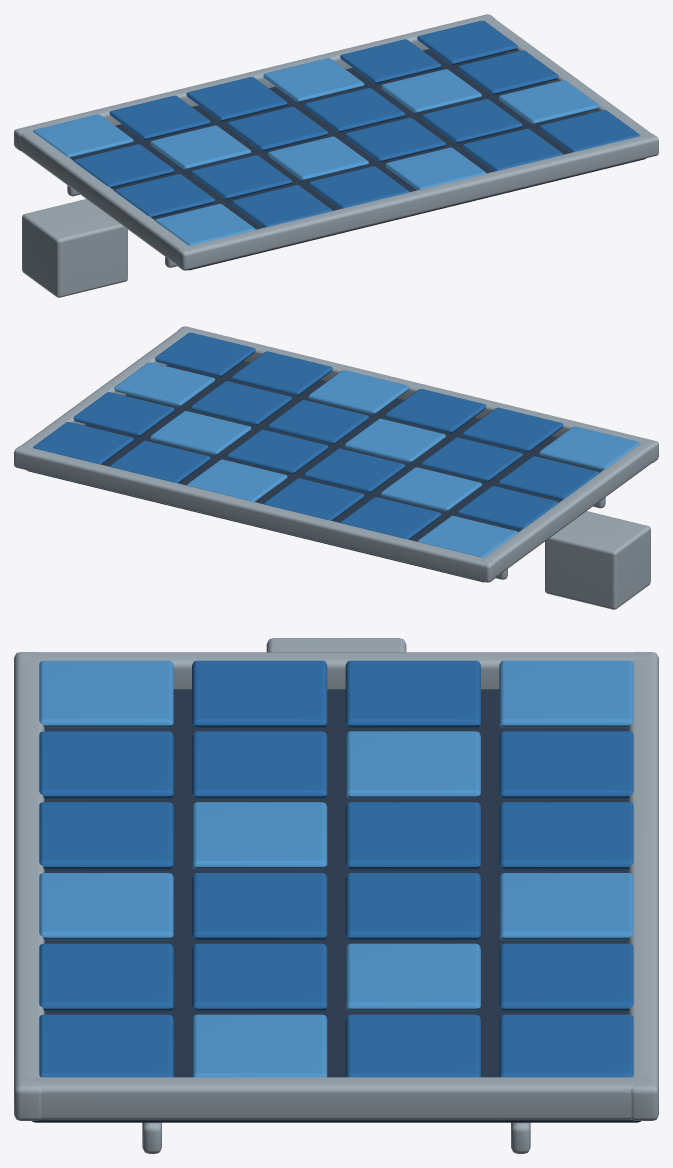
Rendered from solar_fixed.glb.
The picture shows the model from 3 angles, top to bottom: view 1: azimuth 30°, elevation 25°; view 2: azimuth 150°, elevation 25°; view 3: azimuth 270°, elevation 25°; orthographic projection. The views are drawn at different scales.
Visible parts, largest first — view 1: Fixed_Solar_Frame_Rail, Fixed_Solar_Backing, Fixed_Mount, Fixed_Solar_End_Frame, Fixed_Solar_Frame_Rail_001, Fixed_Solar_Cell_1_2, Fixed_Solar_Cell_2_3, Fixed_Solar_Cell_3_3, Fixed_Solar_Cell_1_1, Fixed_Solar_Cell_4_1, Fixed_Solar_Cell_4_3, Fixed_Solar_Cell_2_2 (+18 smaller); view 2: Fixed_Solar_Frame_Rail_001, Fixed_Solar_Backing, Fixed_Mount, Fixed_Solar_End_Frame, Fixed_Solar_Frame_Rail, Fixed_Solar_Cell_1_1, Fixed_Solar_Cell_2_0, Fixed_Solar_Cell_3_0, Fixed_Solar_Cell_1_2, Fixed_Solar_Cell_4_0, Fixed_Solar_Cell_4_2, Fixed_Solar_Cell_2_1 (+18 smaller); view 3: Fixed_Solar_Backing, Fixed_Solar_End_Frame_001, Fixed_Solar_Frame_Rail_001, Fixed_Solar_Frame_Rail, Fixed_Solar_Cell_4_1, Fixed_Solar_Cell_4_2, Fixed_Solar_Cell_4_0, Fixed_Solar_Cell_4_3, Fixed_Solar_Cell_0_1, Fixed_Solar_Cell_0_2, Fixed_Solar_Cell_3_1, Fixed_Solar_Cell_3_2 (+18 smaller).
Part boxes in pixels (x1,y1,x2,y2): Fixed_Solar_Frame_Rail: (177, 133, 658, 270); Fixed_Solar_Backing: (71, 49, 645, 270); Fixed_Mount: (22, 199, 127, 297); Fixed_Solar_End_Frame: (19, 128, 192, 264); Fixed_Solar_Frame_Rail_001: (14, 14, 494, 150); Fixed_Solar_Cell_1_2: (150, 125, 251, 169); Fixed_Solar_Cell_2_3: (186, 77, 287, 121); Fixed_Solar_Cell_3_3: (263, 58, 364, 102); Fixed_Solar_Cell_1_1: (191, 155, 291, 199); Fixed_Solar_Cell_4_1: (421, 99, 522, 143); Fixed_Solar_Cell_4_3: (340, 39, 441, 83); Fixed_Solar_Cell_2_2: (227, 106, 328, 150); Fixed_Solar_Frame_Rail_001: (14, 445, 495, 582); Fixed_Solar_Backing: (27, 361, 601, 582); Fixed_Mount: (545, 511, 650, 609); Fixed_Solar_End_Frame: (480, 439, 653, 576); Fixed_Solar_Frame_Rail: (178, 326, 658, 462); Fixed_Solar_Cell_1_1: (421, 437, 522, 481); Fixed_Solar_Cell_2_0: (385, 389, 486, 433); Fixed_Solar_Cell_3_0: (308, 370, 409, 414); Fixed_Solar_Cell_1_2: (381, 467, 481, 511); Fixed_Solar_Cell_4_0: (231, 351, 332, 395); Fixed_Solar_Cell_4_2: (150, 411, 251, 455); Fixed_Solar_Cell_2_1: (344, 418, 445, 462); Fixed_Solar_Backing: (32, 689, 640, 1122); Fixed_Solar_End_Frame_001: (22, 1077, 650, 1120); Fixed_Solar_Frame_Rail_001: (628, 652, 658, 1120); Fixed_Solar_Frame_Rail: (14, 652, 44, 1120); Fixed_Solar_Cell_4_1: (192, 943, 327, 1011); Fixed_Solar_Cell_4_2: (345, 943, 480, 1011); Fixed_Solar_Cell_4_0: (39, 943, 173, 1011); Fixed_Solar_Cell_4_3: (499, 943, 633, 1011); Fixed_Solar_Cell_0_1: (192, 660, 327, 727); Fixed_Solar_Cell_0_2: (345, 660, 480, 727); Fixed_Solar_Cell_3_1: (192, 873, 327, 940); Fixed_Solar_Cell_3_2: (345, 873, 480, 940).
Bounding box in the file's own units: 2.09 × 0.304 × 1.16.
